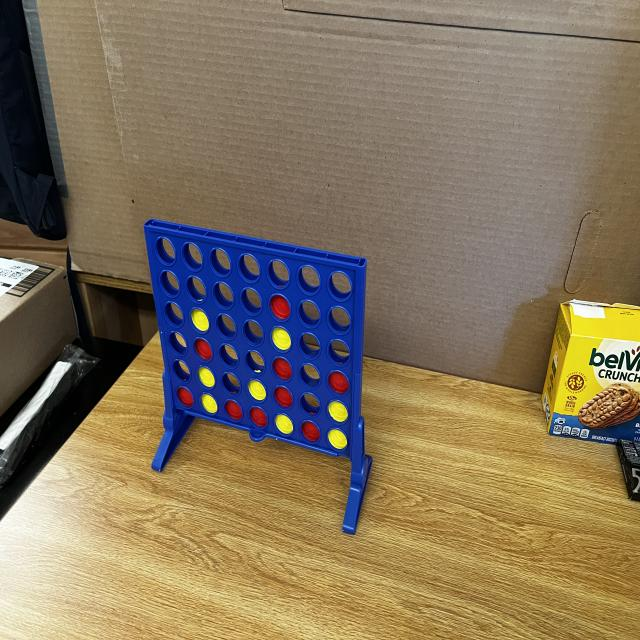Board: (144, 216, 366, 461)
No Piece: (325, 264, 355, 305), (293, 260, 322, 296), (264, 253, 292, 290), (207, 244, 234, 279), (326, 301, 352, 337), (235, 251, 262, 285), (180, 239, 206, 274), (153, 235, 179, 269), (238, 284, 265, 316), (296, 298, 323, 330), (213, 309, 239, 342), (241, 316, 267, 348), (325, 337, 352, 367), (296, 360, 322, 391), (298, 329, 322, 362), (210, 280, 236, 310), (158, 268, 183, 299), (242, 347, 268, 376), (184, 274, 208, 304), (216, 339, 240, 369), (298, 390, 322, 418), (167, 329, 190, 358), (163, 300, 185, 330), (220, 369, 243, 397), (170, 356, 193, 383)
Red Piece: (267, 290, 295, 323), (326, 366, 351, 396), (298, 415, 323, 444), (272, 381, 295, 411), (270, 355, 295, 382), (191, 334, 214, 362), (220, 396, 244, 421), (174, 384, 196, 410), (248, 404, 270, 422)
Yellow Piece: (324, 396, 352, 425), (270, 322, 293, 357), (245, 376, 269, 404), (189, 306, 211, 336), (326, 426, 350, 452), (272, 409, 294, 437), (196, 364, 217, 389), (200, 393, 219, 414)
